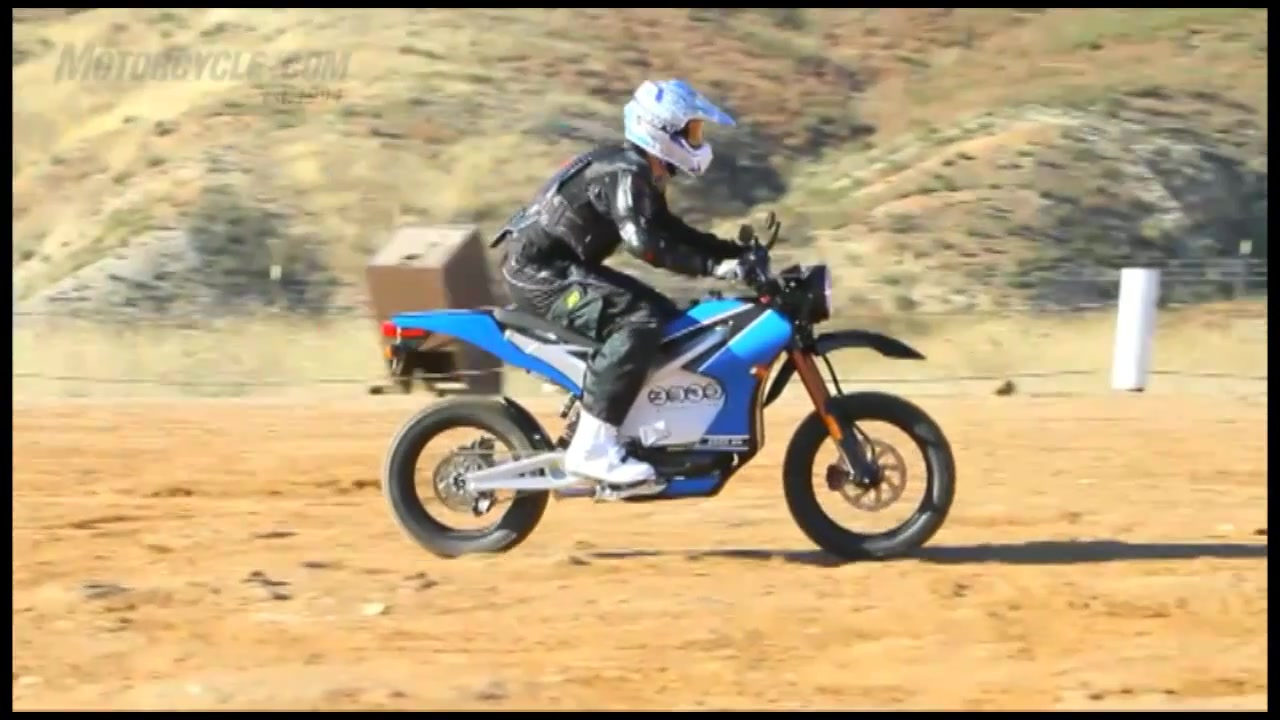motorbike: (382, 214, 958, 561)
